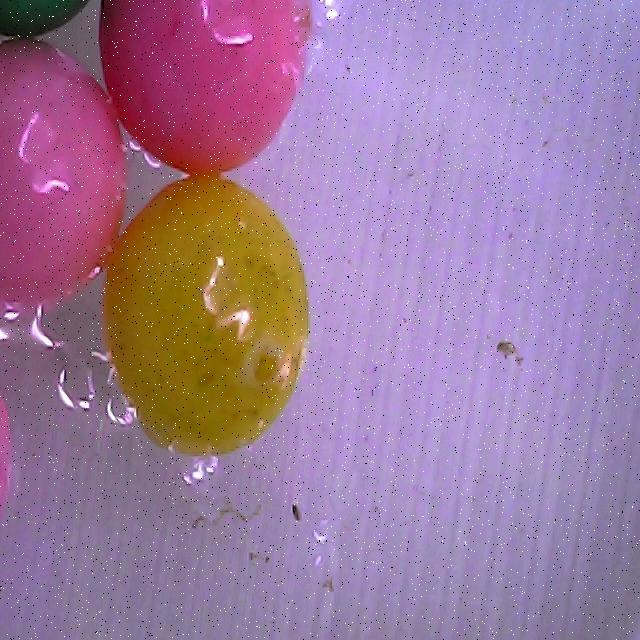beads: (103, 176, 309, 457), (97, 0, 312, 177), (0, 39, 126, 309)
